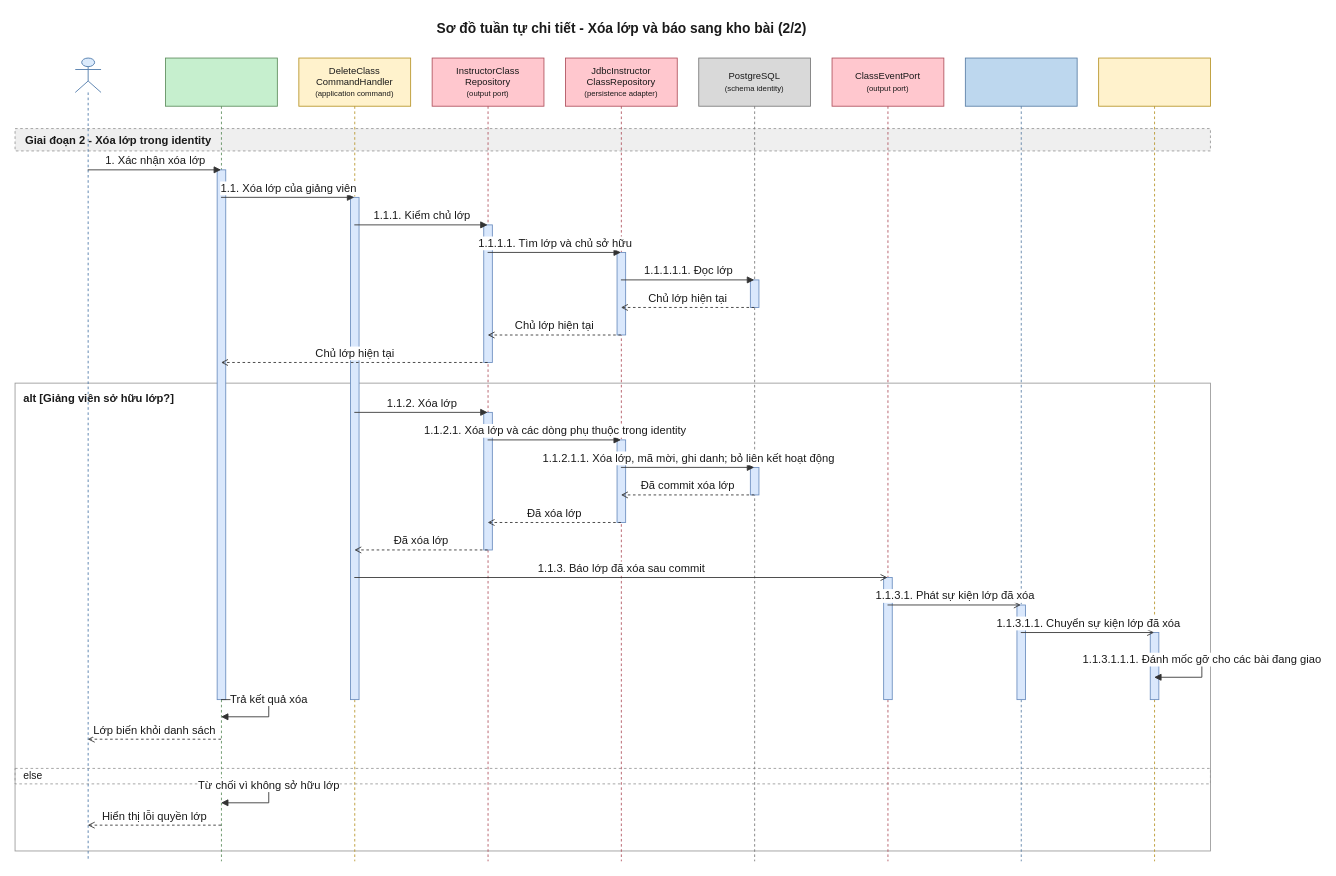
Image size: 1336x876. Some labels were removed from this diagram. The shapes that lost their labels are listed below. From the top down, each one's box as (x1, y1, x2, y2) in pixels, then its label:
(74, 57, 101, 861): Giảng viên
(165, 57, 277, 861): InstructorClass Controller (presentation)
(964, 57, 1077, 861): RabbitMQ (event broker)
(1098, 57, 1210, 861): ProblemBank Consumer (problem-bank consumer)
